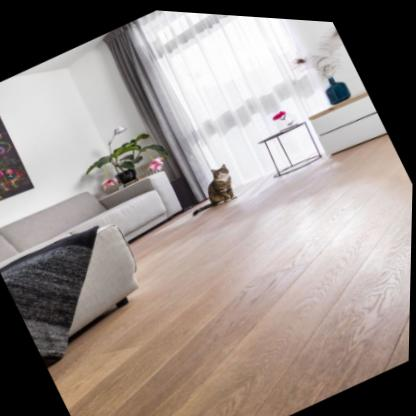Curtains: (103, 8, 332, 200)
Wooden floor: (50, 128, 413, 416)
